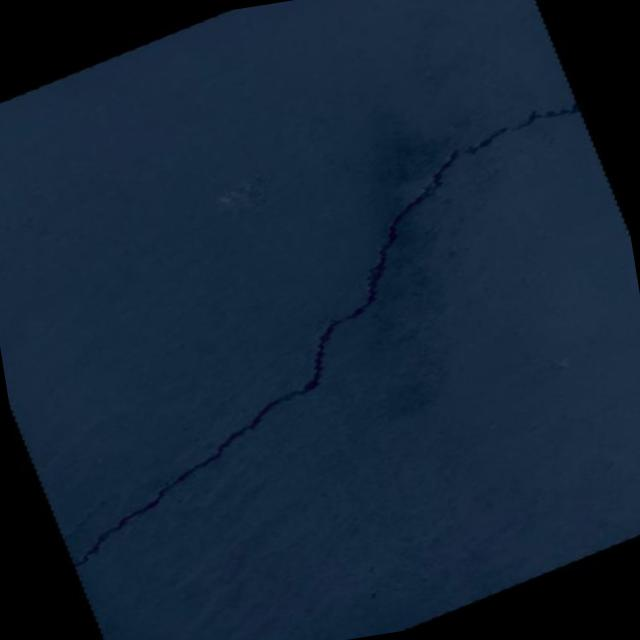crack: (0, 90, 640, 576), (57, 512, 100, 542)
